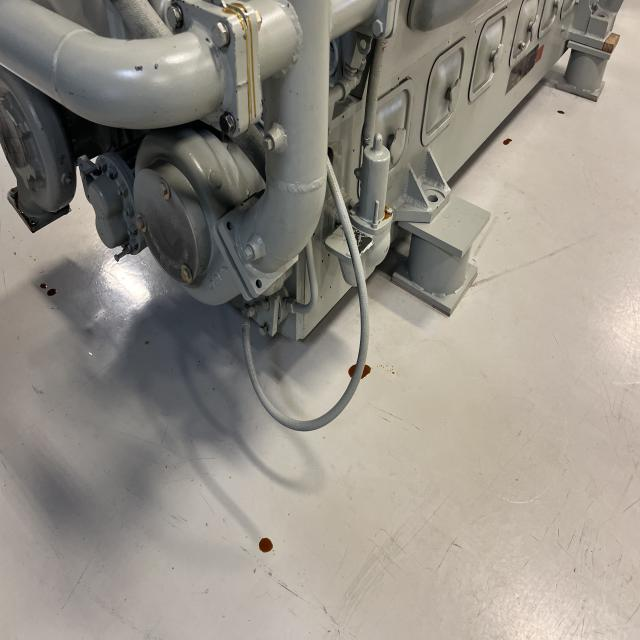Oil Leak: (223, 3, 256, 128), (259, 538, 273, 552), (361, 364, 371, 379), (348, 365, 355, 378), (47, 288, 57, 296), (503, 138, 512, 145)
